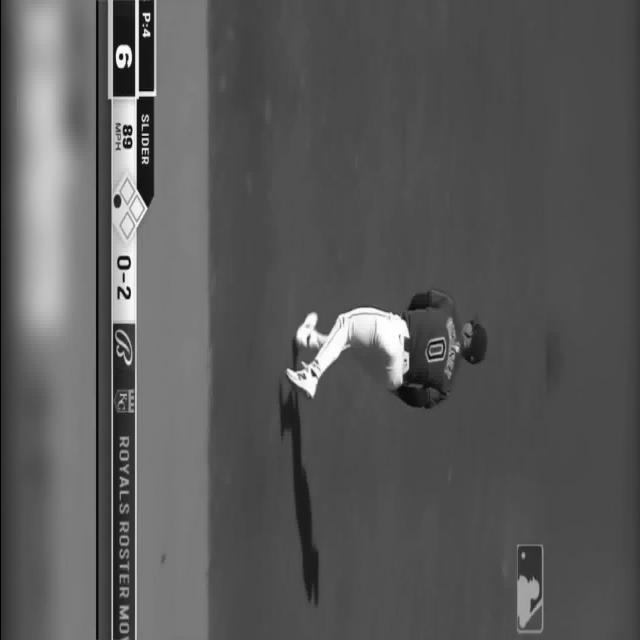shoe: (284, 363, 318, 399), (294, 311, 318, 348)
